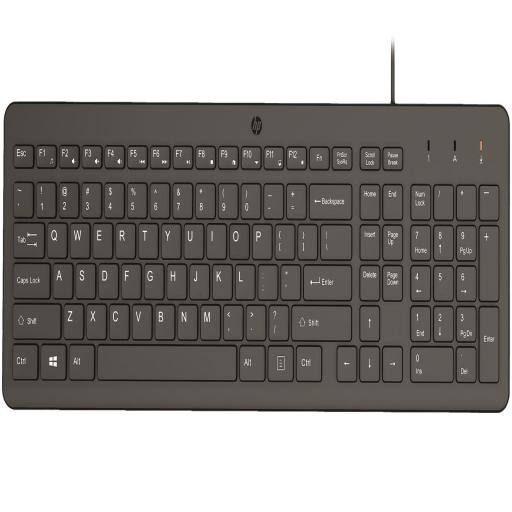keyboard: (0, 102, 512, 411)
